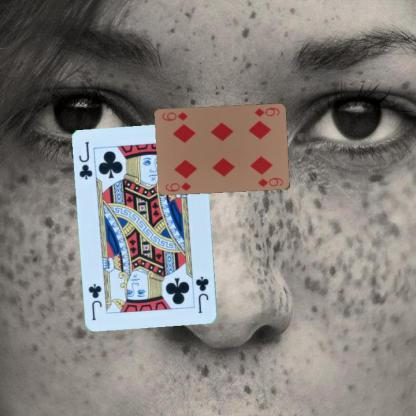6d: (252, 104, 281, 118), (163, 179, 192, 193)
Jc: (76, 139, 94, 181), (193, 274, 210, 315)
